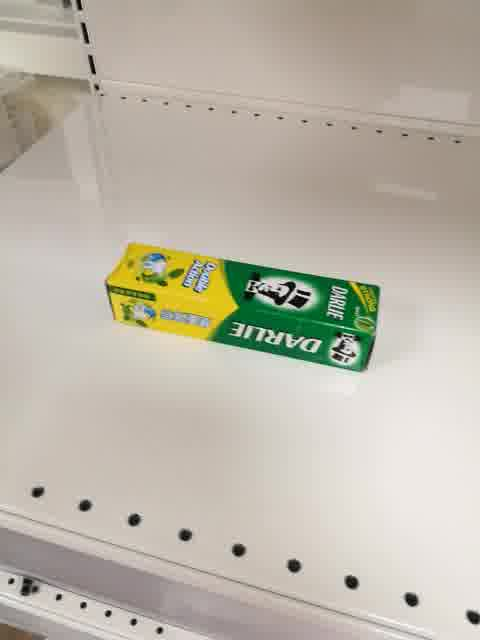toothpaste: (102, 239, 380, 374)
